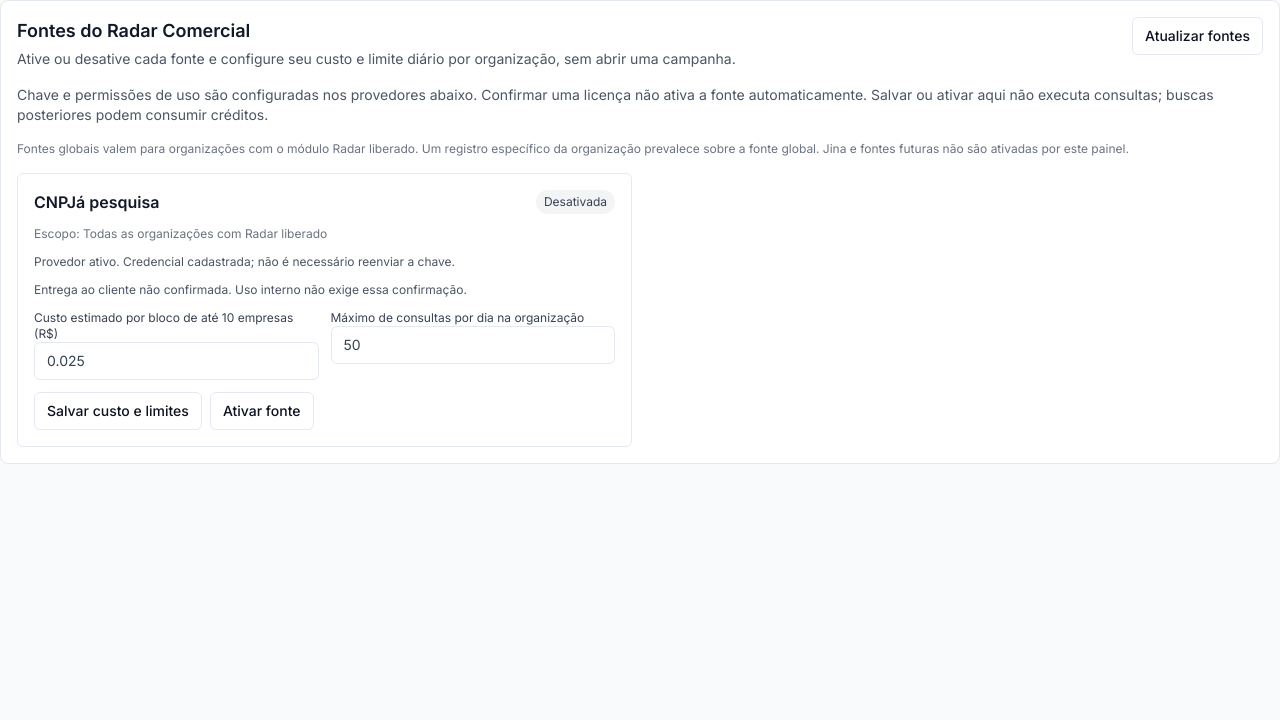
Test case: central Radar source management › loads the catalog without a campaign and activates only the selected source with existing values
Click the button "Ativar fonte": {"x": 262, "y": 411} x1=210 y1=392 x2=314 y2=430
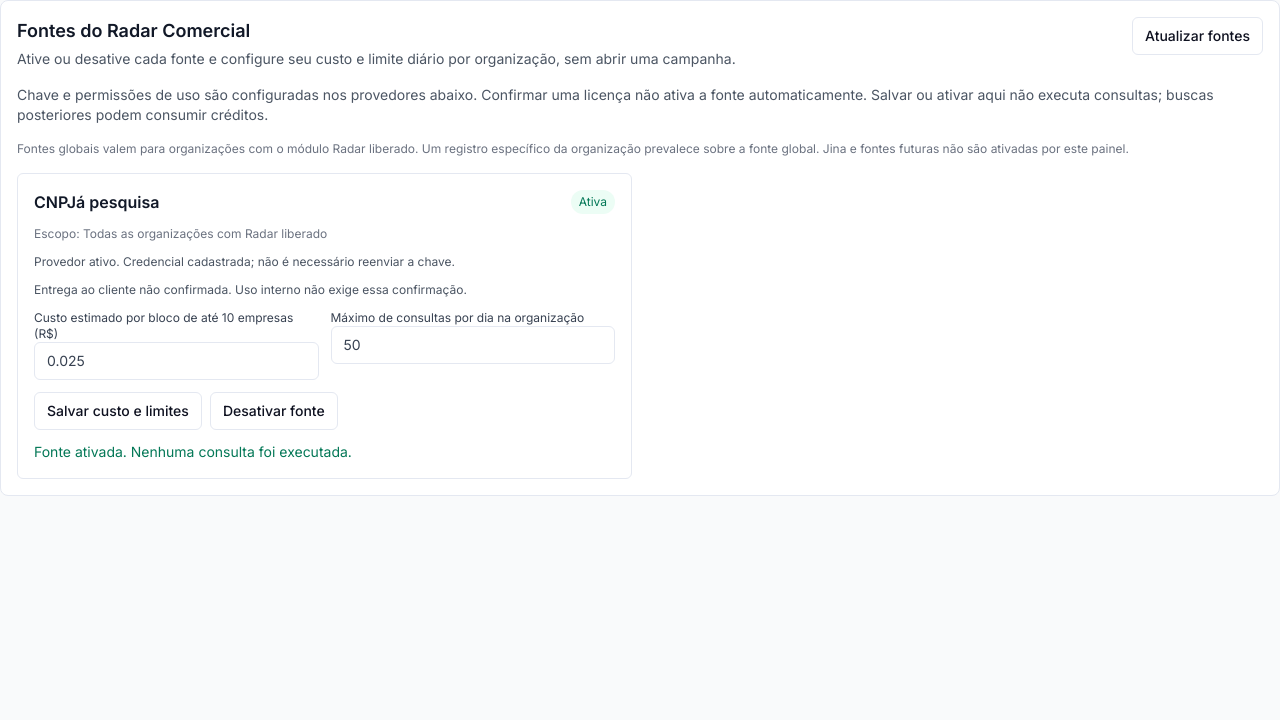
expect the number field labelled "Custo estimado por bloco de até 10 empresas (R$)" holds "0.025": met, box x1=34 y1=342 x2=318 y2=380
expect the text "Fonte ativada. Nenhuma consulta foi executada." is shown: met, box x1=34 y1=443 x2=352 y2=460
